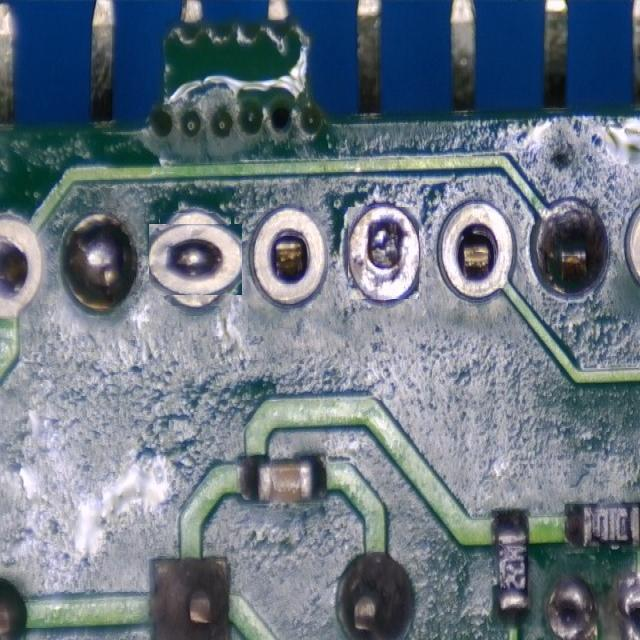Dry_joint: (64, 215, 135, 310), (149, 224, 241, 295), (349, 207, 419, 298)
